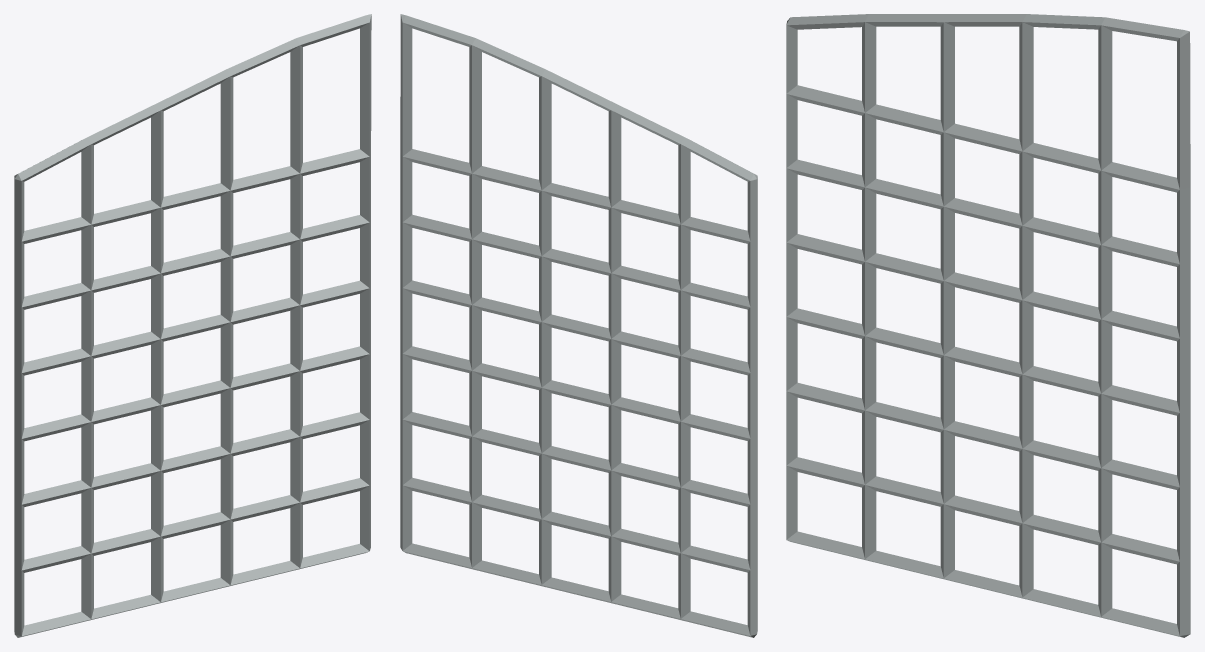
File: Gate.fbx
3 views of the same model, side by side, from view 1: azimuth 30°, elevation 25°; view 2: azimuth 150°, elevation 25°; view 3: azimuth 330°, elevation 25° (orthographic). The views are drawn at different scales.
Parts seen in each view (by area): view 1: Plane; view 2: Plane; view 3: Plane.
Part boxes in pixels (x1=…): Plane: x1=14, y1=14, x2=371, y2=637; Plane: x1=400, y1=14, x2=757, y2=637; Plane: x1=786, y1=14, x2=1190, y2=637.
Bounding box in the file's own units: 337 × 486 × 11.9.
Materials: 1 (1 with a texture image).
